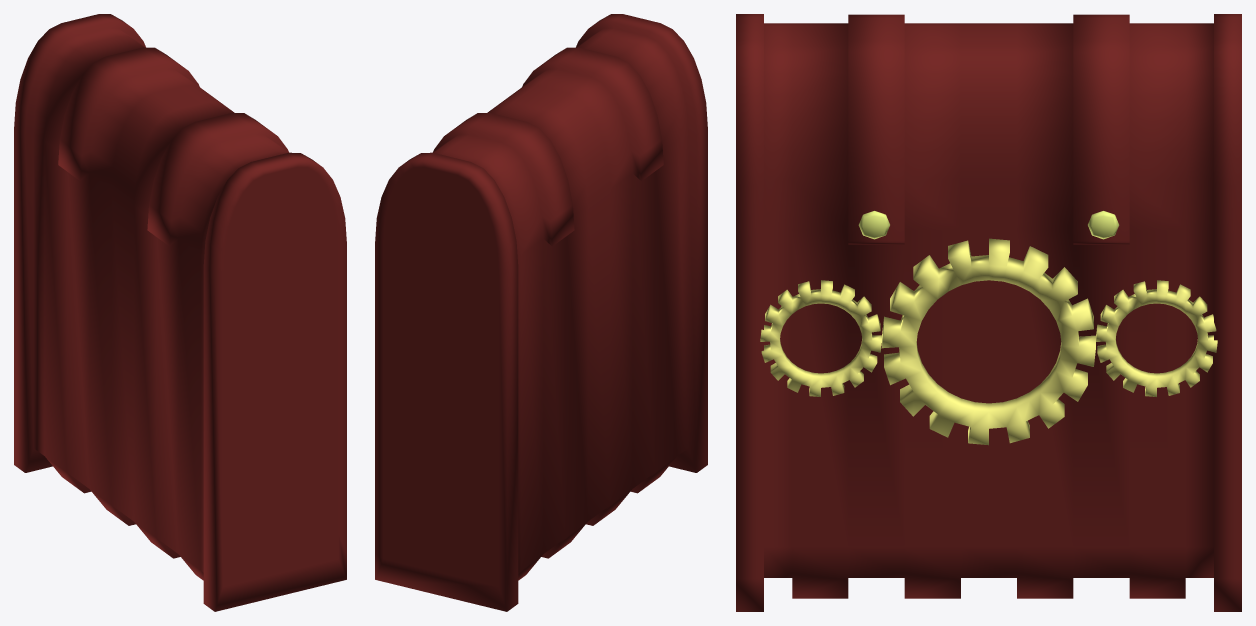
Rendered from Backpack.fbx.
3 views of the same model, side by side, from view 1: azimuth 30°, elevation 25°; view 2: azimuth 150°, elevation 25°; view 3: azimuth 270°, elevation 25° (orthographic). The views are drawn at different scales.
Visible parts, largest first — view 1: Cube; view 2: Cube; view 3: Cube, Circle, Circle.002, Circle.001.
Part boxes in pixels (x1=…): Cube: x1=14, y1=14, x2=346, y2=611; Cube: x1=375, y1=14, x2=707, y2=611; Cube: x1=736, y1=14, x2=1241, y2=611; Circle: x1=882, y1=238, x2=1095, y2=445; Circle.002: x1=760, y1=280, x2=881, y2=396; Circle.001: x1=1096, y1=280, x2=1217, y2=396.
Size of the model in its own units: 252 by 716 by 603.
